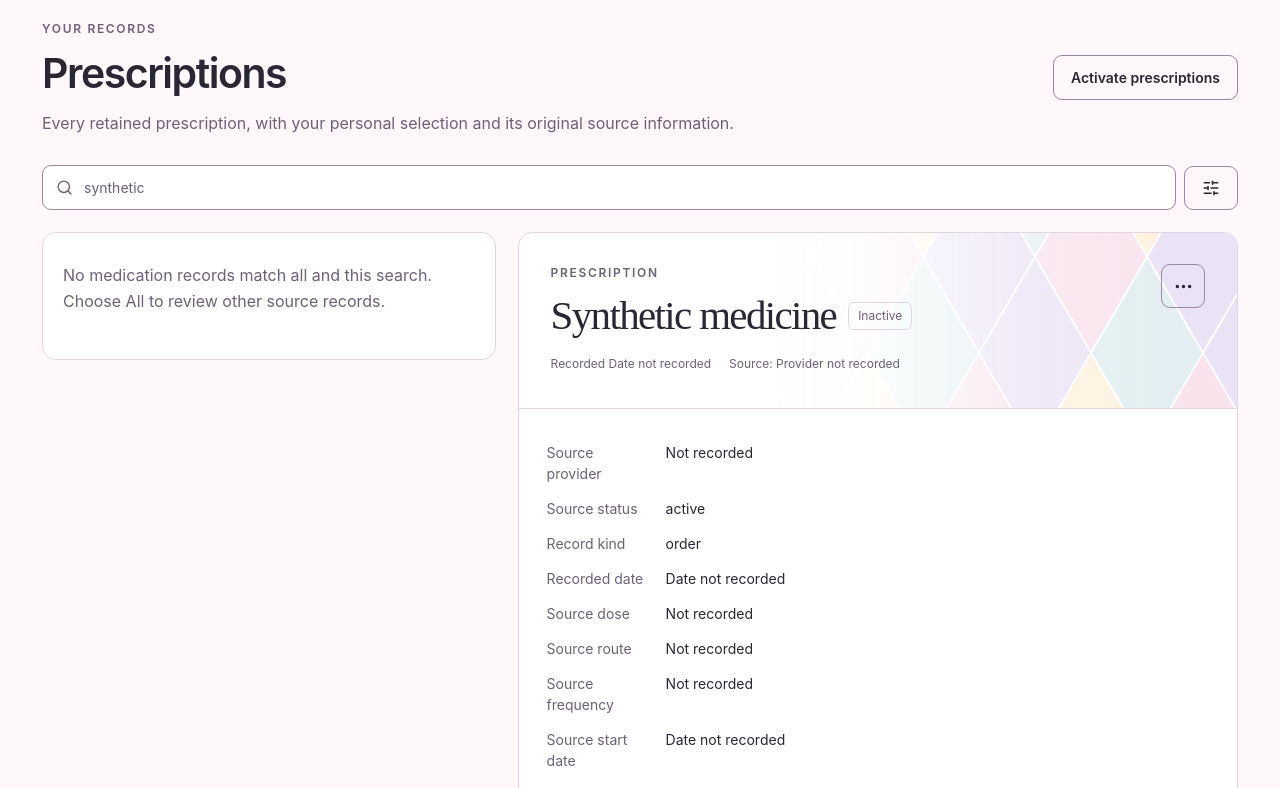
Done restores the complete pre-activation prescription view
Click the button "Activate prescriptions". click: click(1146, 78)
box: [1053, 55, 1238, 100]
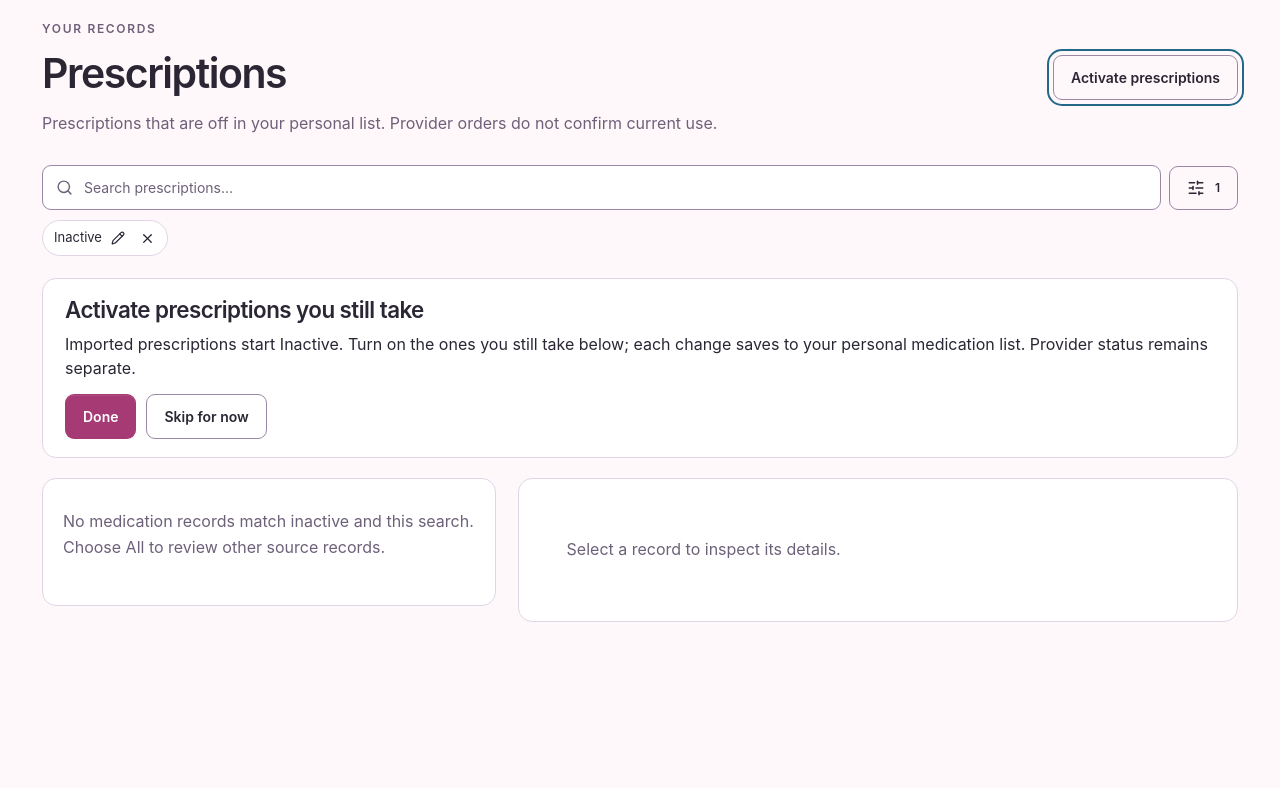
Result: the text "Inactive" is shown at [54, 228, 102, 248]
Result: the field labelled "Search prescriptions" is empty
Note: In-flow search replaces the history entry, but must retain its return state.
Type "temporary" into the field labelled "Search prescriptions". click: (614, 188)
box: [82, 166, 1147, 209]
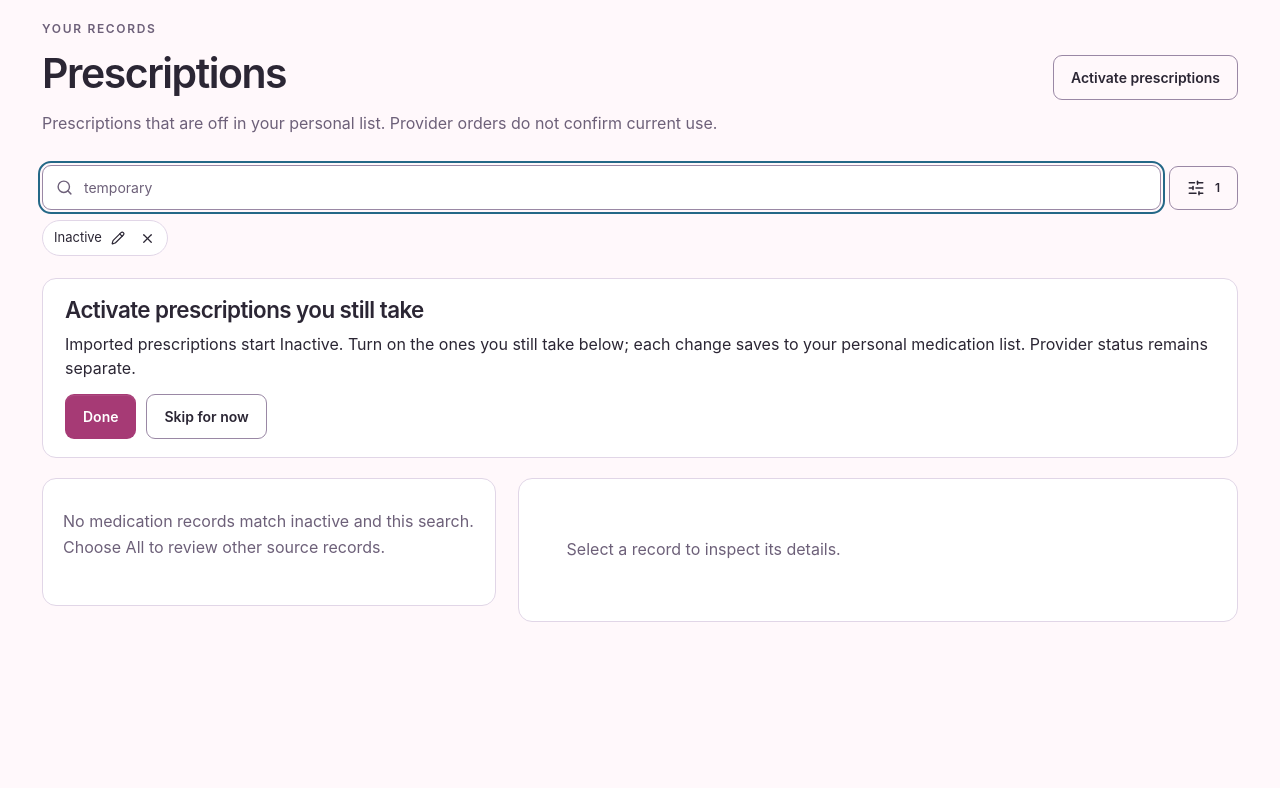
Click the button "Activate prescriptions". click: click(1146, 78)
box: [1053, 55, 1238, 100]
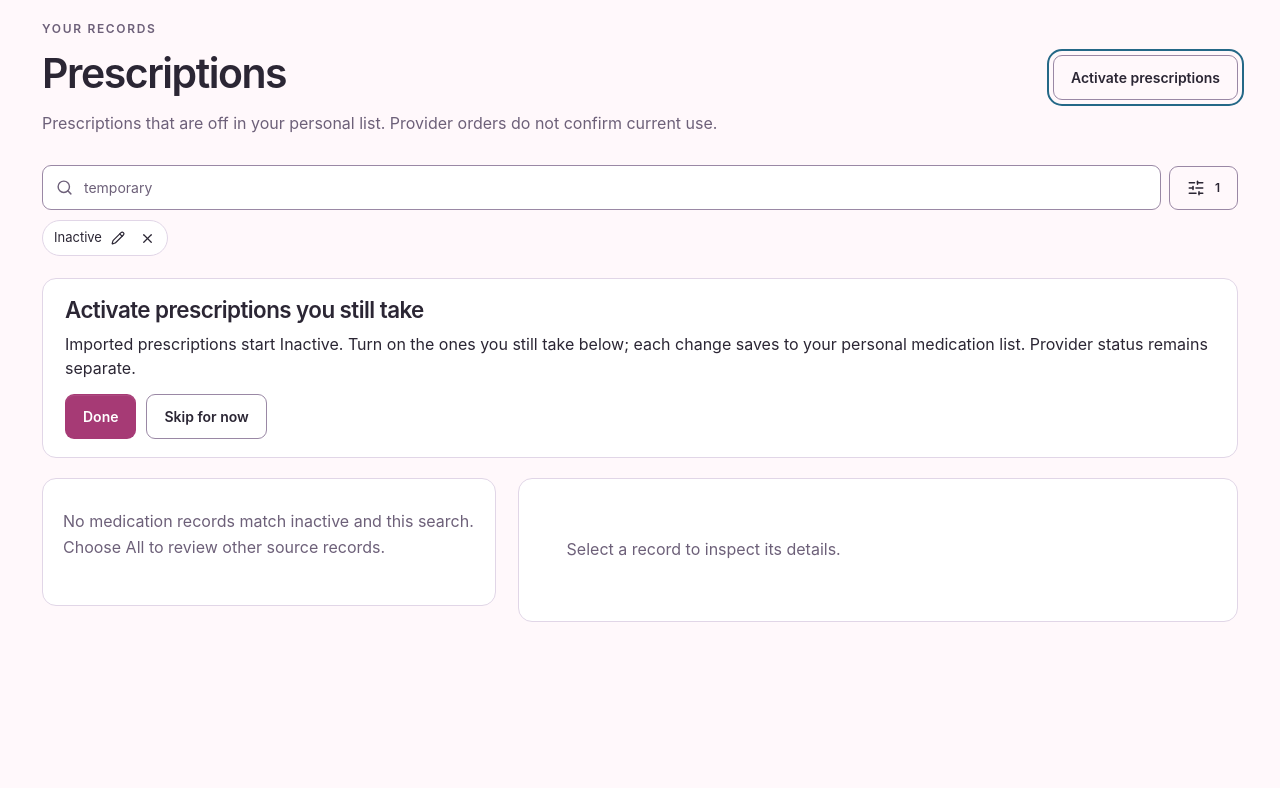
Click the button "Done". click: click(101, 416)
box: [65, 394, 136, 439]
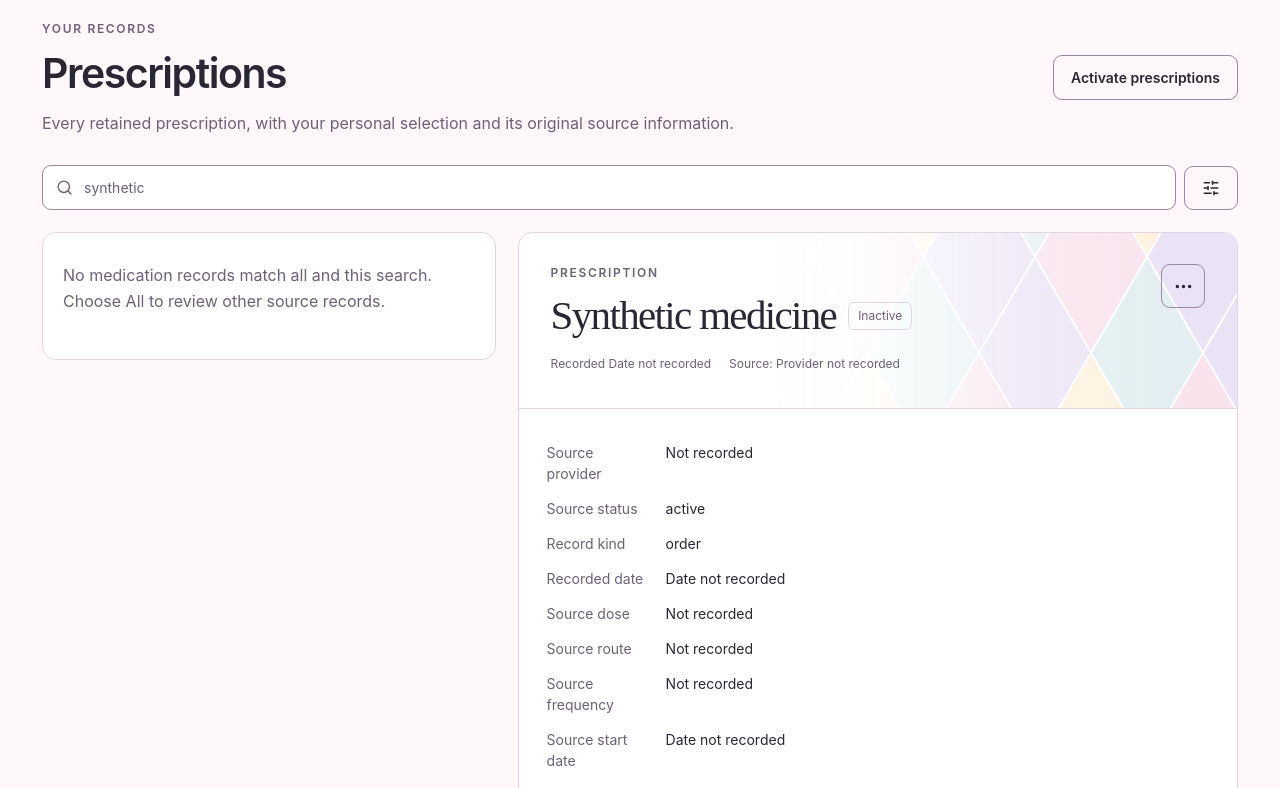
Result: the field named "Search prescriptions" holds "synthetic" at [82, 166, 1162, 209]
